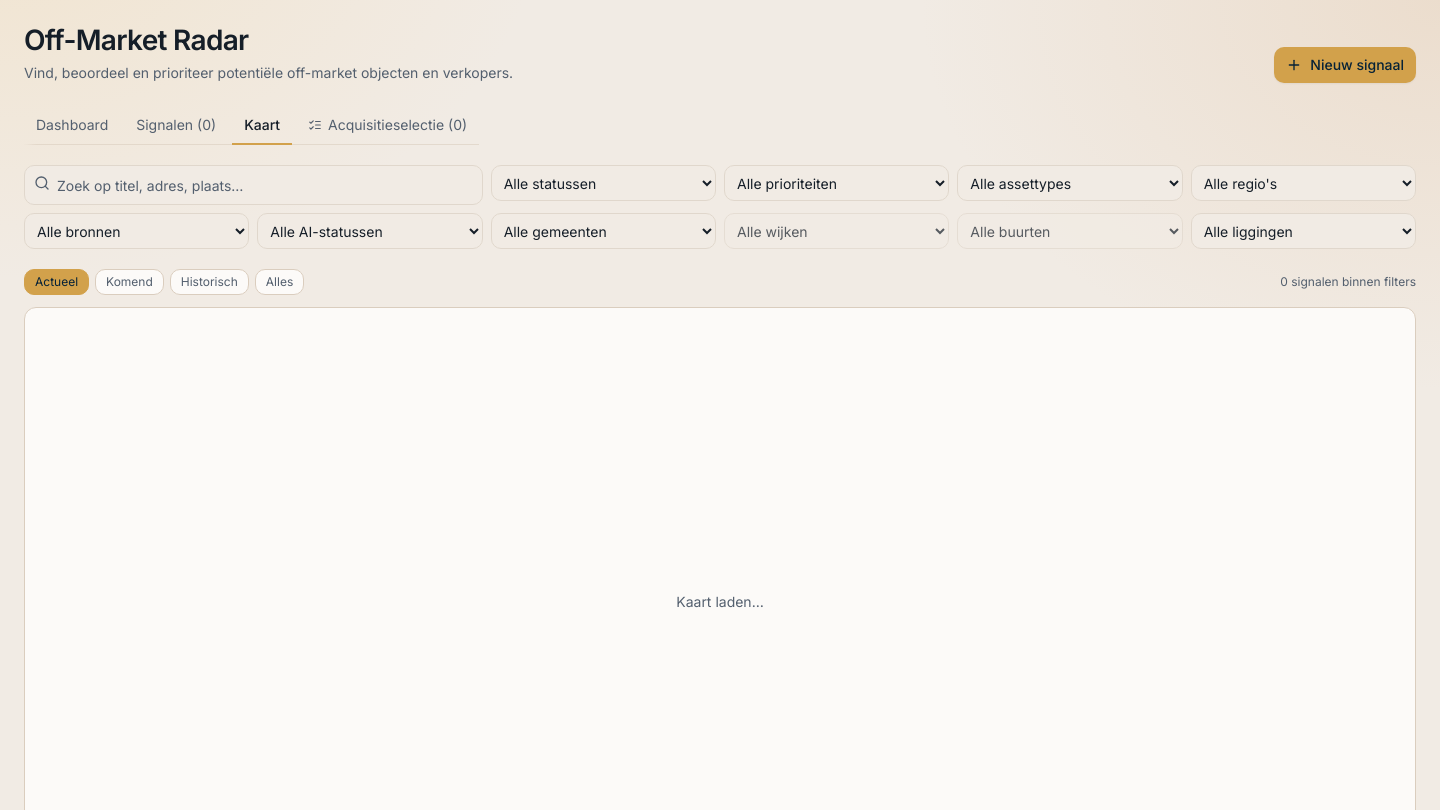
Scenario: OffMarket kaart-tab: filtertekst › klik op selectie-tab toont AcquisitieSelectieTab
Click the tab with test id "off-market-tab-acquisitieselectie" at (388, 126), box [296, 107, 479, 145]
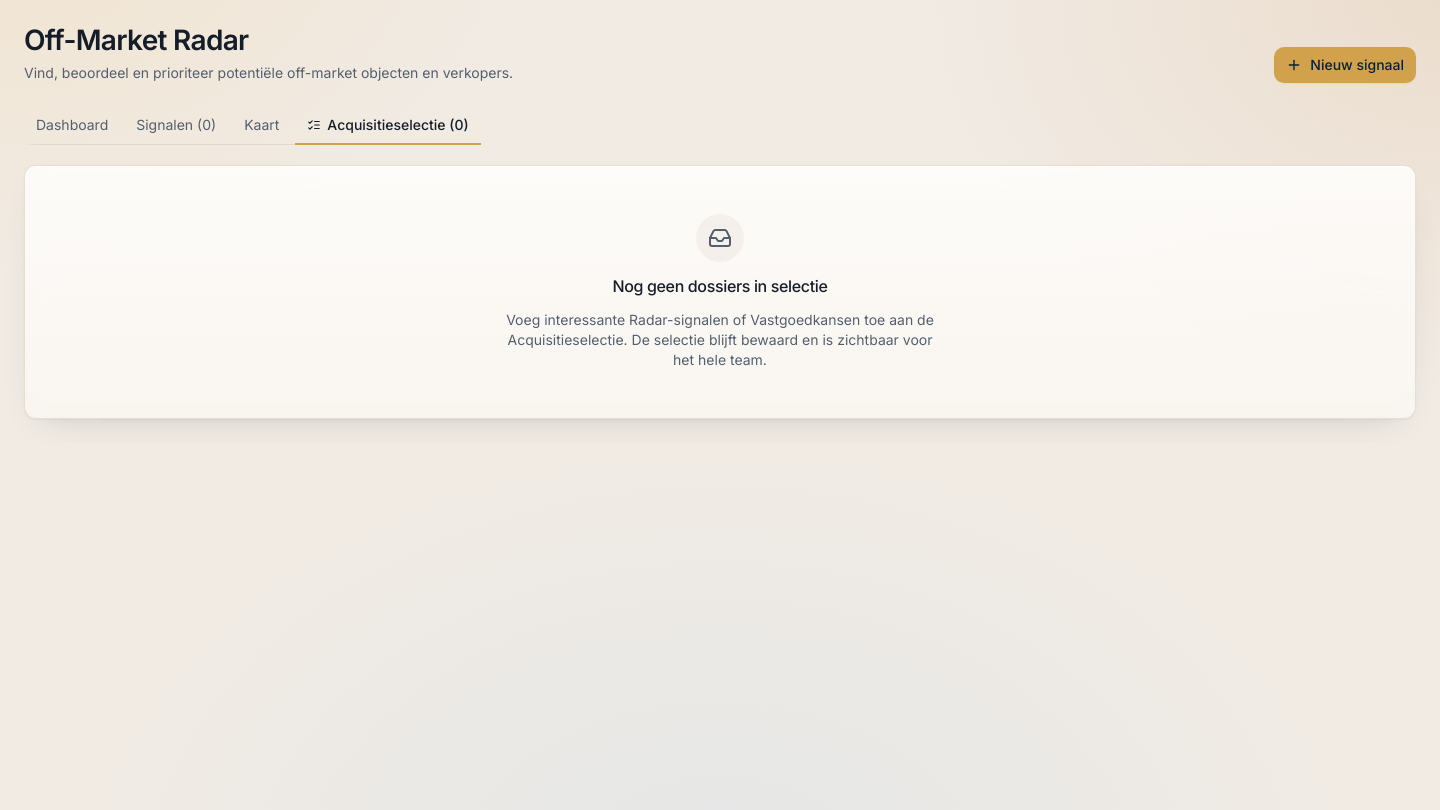
Expected: the heading "Nog geen dossiers in selectie" is shown, [612, 274, 828, 298]
